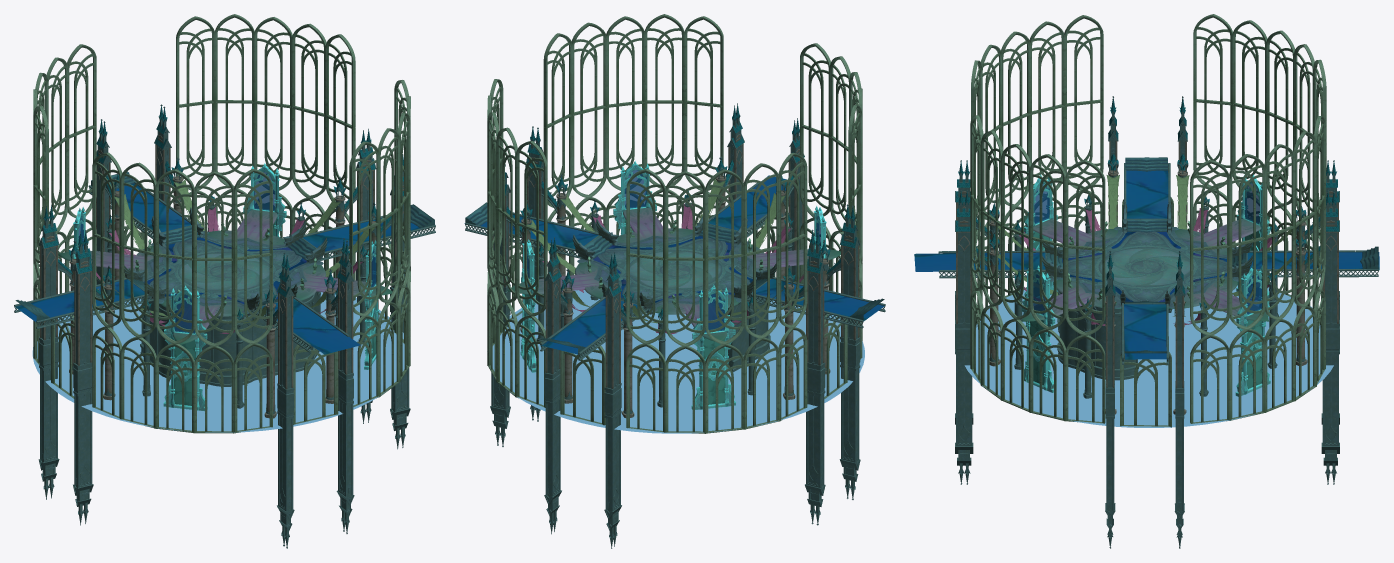
File: spire_wind.glb
The picture shows the model from 3 angles, left to right: view 1: azimuth 30°, elevation 25°; view 2: azimuth 150°, elevation 25°; view 3: azimuth 270°, elevation 25°; orthographic projection.
Visible parts, largest first — view 1: P_SPR_Wind_Plane_Background_01_v01, P_SHR_Wind_ElvenArchDecor_a_01_v01 (7) (×6), P_SHR_Wind_ElvenArchDecor_a_01_v01 (6) (×6), P_SHR_Wind_ElvenArchDecor_a_01_v01 (4) (×6), P_SHR_Wind_ElvenArchDecor_a_01_v01 (1) (×5), P_SHR_Wind_ElvenArchDecor_a_01_v01 (9) (×5), P_SHR_Wind_ElvenArchDecor_a_01_v01 (8) (×4), P_WND_Patern_a_01_v01, P_SHR_Wind_ElvenArchDecor_a_01_v01 (×3), P_SHR_Wind_ElvenArchDecor_a_01_v01 (3) (×3), P_SHR_Wind_ElvenArchDecor_a_01_v01 (5) (×3), P_SPR_Wind_BG_Tower_a_01 (4) (+31 smaller); view 2: P_SPR_Wind_Plane_Background_01_v01, P_SHR_Wind_ElvenArchDecor_a_01_v01 (1) (×6), P_SHR_Wind_ElvenArchDecor_a_01_v01 (×6), P_SHR_Wind_ElvenArchDecor_a_01_v01 (7) (×5), P_SHR_Wind_ElvenArchDecor_a_01_v01 (4) (×5), P_SHR_Wind_ElvenArchDecor_a_01_v01 (3) (×4), P_SHR_Wind_ElvenArchDecor_a_01_v01 (2) (×4), P_WND_Patern_a_01_v01, P_SHR_Wind_ElvenArchDecor_a_01_v01 (6) (×3), P_SHR_Wind_ElvenArchDecor_a_01_v01 (8) (×3), P_SHR_Wind_ElvenArchDecor_a_01_v01 (5) (×3), P_SPR_Wind_BG_Tower_a_01 (+29 smaller); view 3: P_SPR_Wind_Plane_Background_01_v01, P_SHR_Wind_ElvenArchDecor_a_01_v01 (4) (×6), P_SHR_Wind_ElvenArchDecor_a_01_v01 (6) (×6), P_SHR_Wind_ElvenArchDecor_a_01_v01 (×6), P_SHR_Wind_ElvenArchDecor_a_01_v01 (7) (×6), P_SHR_Wind_ElvenArchDecor_a_01_v01 (1) (×6), P_WND_Patern_a_01_v01, P_SHR_Wind_ElvenArchDecor_a_01_v01 (5) (×4), P_SHR_Wind_ElvenArchDecor_a_01_v01 (8) (×4), P_SHR_Wind_ElvenArchDecor_a_01_v01 (2) (×4), P_SHR_Wind_ElvenArchDecor_a_01_v01 (9) (×3), P_SHR_Wind_ElvenArchDecor_a_01_v01 (3) (×3) (+32 smaller).
Boxes of the visible parts, x1,y1,x2,y2 form: P_SPR_Wind_Plane_Background_01_v01: (32,292,406,432); P_SHR_Wind_ElvenArchDecor_a_01_v01 (7) (×6): (67,34,379,418); P_SHR_Wind_ElvenArchDecor_a_01_v01 (6) (×6): (46,23,400,428); P_SHR_Wind_ElvenArchDecor_a_01_v01 (4) (×6): (35,17,410,433); P_SHR_Wind_ElvenArchDecor_a_01_v01 (1) (×5): (33,16,408,433); P_SHR_Wind_ElvenArchDecor_a_01_v01 (9) (×5): (68,116,379,424); P_SHR_Wind_ElvenArchDecor_a_01_v01 (8) (×4): (49,107,400,337); P_WND_Patern_a_01_v01: (149,239,301,303); P_SHR_Wind_ElvenArchDecor_a_01_v01 (×3): (194,14,254,433); P_SHR_Wind_ElvenArchDecor_a_01_v01 (3) (×3): (33,102,272,343); P_SHR_Wind_ElvenArchDecor_a_01_v01 (5) (×3): (155,103,410,344); P_SPR_Wind_BG_Tower_a_01 (4): (73,230,115,400); P_SPR_Wind_Plane_Background_01_v01: (492,290,864,433); P_SHR_Wind_ElvenArchDecor_a_01_v01 (1) (×6): (515,33,830,421); P_SHR_Wind_ElvenArchDecor_a_01_v01 (×6): (496,22,850,429); P_SHR_Wind_ElvenArchDecor_a_01_v01 (7) (×5): (489,16,862,432); P_SHR_Wind_ElvenArchDecor_a_01_v01 (4) (×5): (487,16,744,433); P_SHR_Wind_ElvenArchDecor_a_01_v01 (3) (×4): (515,115,830,328); P_SHR_Wind_ElvenArchDecor_a_01_v01 (2) (×4): (496,107,848,338); P_WND_Patern_a_01_v01: (598,237,750,301); P_SHR_Wind_ElvenArchDecor_a_01_v01 (6) (×3): (644,14,705,433); P_SHR_Wind_ElvenArchDecor_a_01_v01 (8) (×3): (560,102,705,425); P_SHR_Wind_ElvenArchDecor_a_01_v01 (5) (×3): (487,102,744,344); P_SPR_Wind_BG_Tower_a_01: (783,229,825,399); P_SPR_Wind_Plane_Background_01_v01: (964,285,1333,427); P_SHR_Wind_ElvenArchDecor_a_01_v01 (4) (×6): (1001,30,1295,412); P_SHR_Wind_ElvenArchDecor_a_01_v01 (6) (×6): (981,21,1314,420); P_SHR_Wind_ElvenArchDecor_a_01_v01 (×6): (981,20,1316,421); P_SHR_Wind_ElvenArchDecor_a_01_v01 (7) (×6): (970,15,1326,423); P_SHR_Wind_ElvenArchDecor_a_01_v01 (1) (×6): (971,14,1325,423); P_WND_Patern_a_01_v01: (1062,231,1226,301); P_SHR_Wind_ElvenArchDecor_a_01_v01 (5) (×4): (1001,113,1295,320); P_SHR_Wind_ElvenArchDecor_a_01_v01 (8) (×4): (981,106,1312,329); P_SHR_Wind_ElvenArchDecor_a_01_v01 (2) (×4): (984,104,1316,329); P_SHR_Wind_ElvenArchDecor_a_01_v01 (9) (×3): (970,101,1230,335); P_SHR_Wind_ElvenArchDecor_a_01_v01 (3) (×3): (1065,101,1325,335).
Size of the model in its own units: 114 by 104 by 115.
17 materials, 15 textured.
